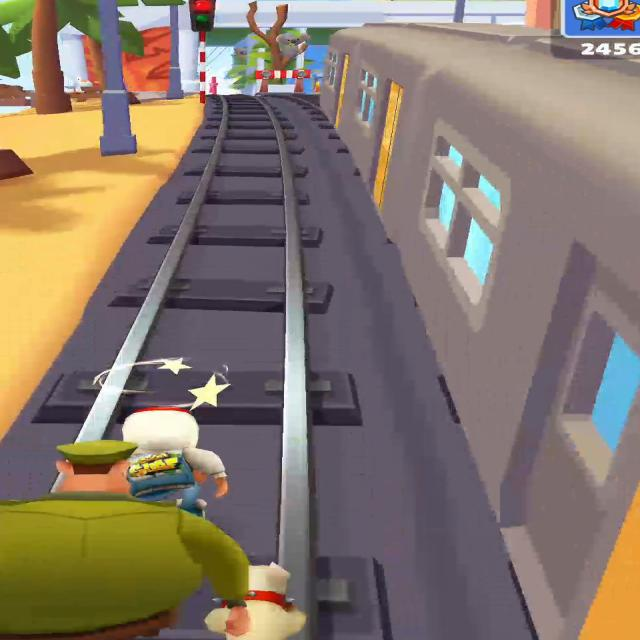block pillar: (225, 1, 310, 94)
police: (0, 440, 249, 640)
train: (321, 23, 639, 640)
